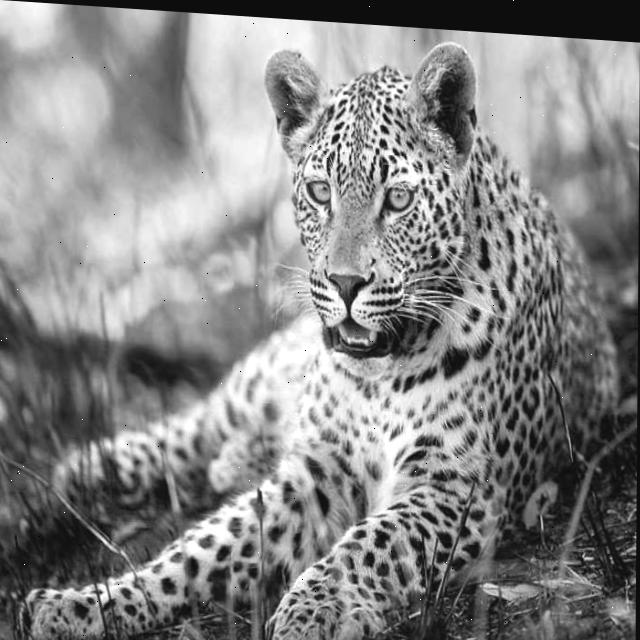Leopard: (11, 12, 623, 640)
